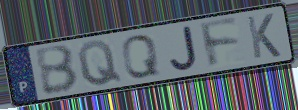B: (32, 43, 81, 97)
F: (197, 16, 242, 71)
J: (168, 24, 199, 73)
K: (244, 12, 283, 61)
Q: (76, 39, 125, 88), (119, 33, 162, 79)
